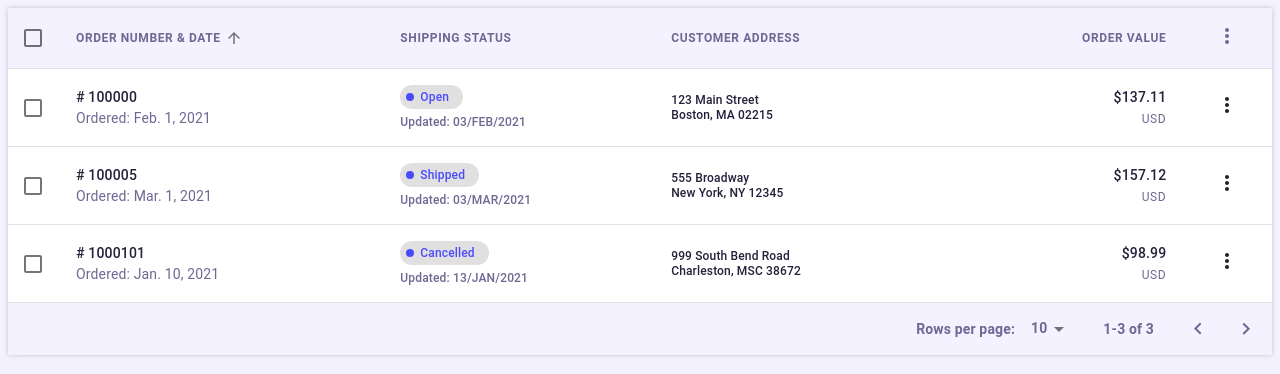
Test: <OrdersTable /> › should sort the table by address
The width and height of the screenshot is (1280, 374).
Click the button "CUSTOMER ADDRESS": (736, 38) 671,30 -> 800,44
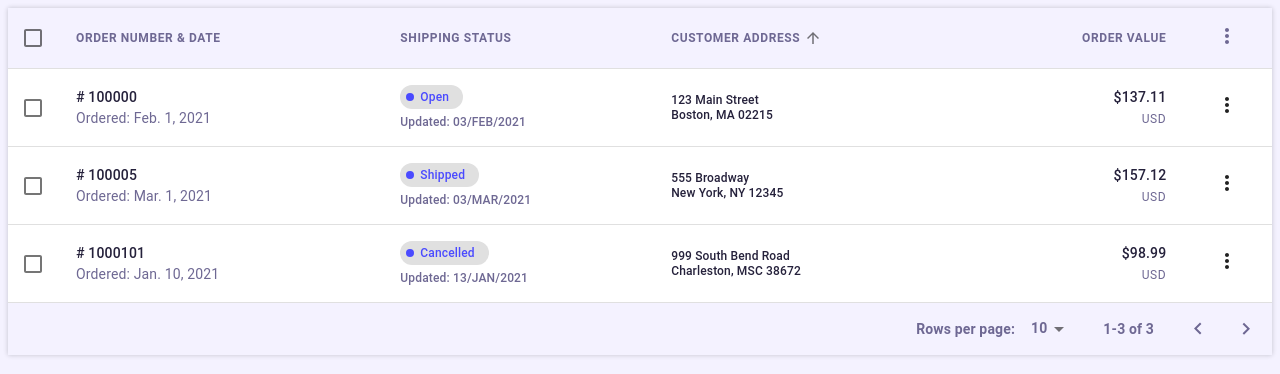
expect the text with test id "address-line" shows "123": met, box 671,92 -> 759,106
expect the text with test id "address-line" shows "999": met, box 671,248 -> 790,262
# sort DESC
Click the button "CUSTOMER ADDRESS": (749, 38) 671,29 -> 826,47
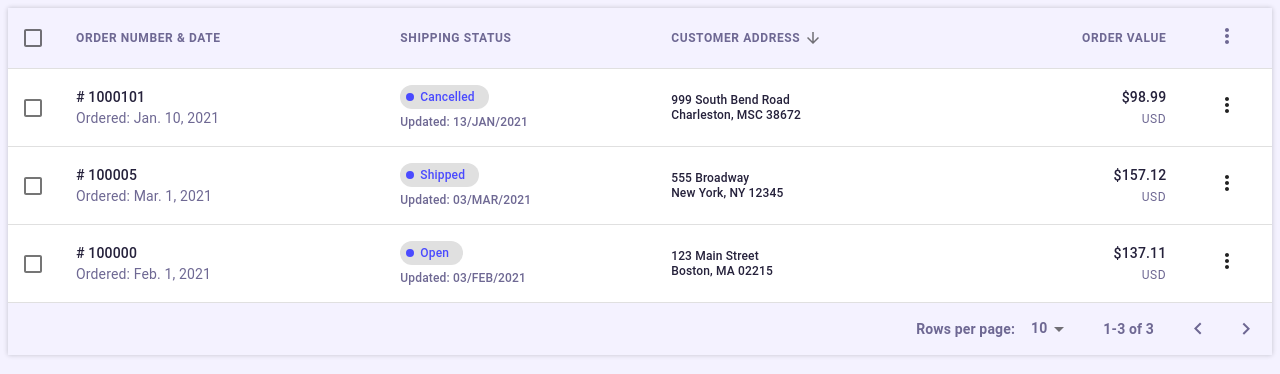
expect the text with test id "address-line" shows "999": met, box 671,92 -> 790,106
expect the text with test id "address-line" shows "123": met, box 671,248 -> 759,262
